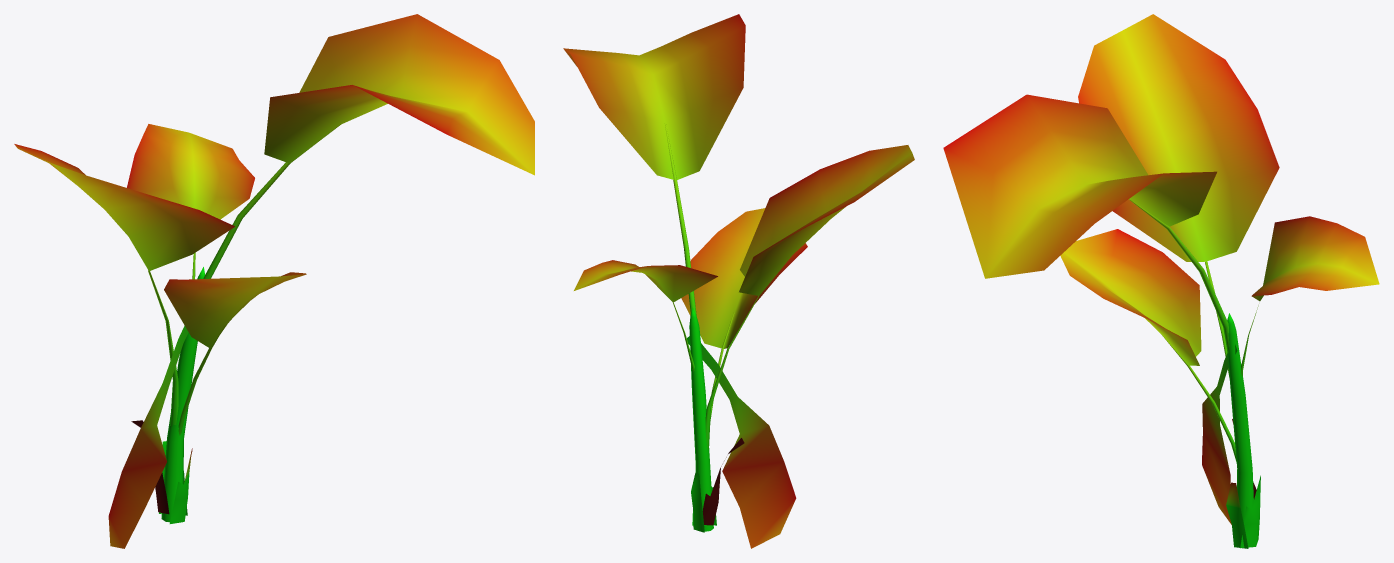
Rendered from Cat Palm_LOD1_Var4_tjejafeia.fbx.
The picture shows the model from 3 angles, left to right: view 1: azimuth 30°, elevation 25°; view 2: azimuth 150°, elevation 25°; view 3: azimuth 270°, elevation 25°; orthographic projection. The views are drawn at different scales.
Parts seen in each view (by area): view 1: _a38b_Var4_LOD1; view 2: _a38b_Var4_LOD1; view 3: _a38b_Var4_LOD1.
Part boxes in pixels (x1,y1,x2,y2): _a38b_Var4_LOD1: (14,14,534,548); _a38b_Var4_LOD1: (563,14,914,548); _a38b_Var4_LOD1: (943,14,1379,548).
Bounding box in the file's own units: 64.49 × 69.15 × 55.34.
